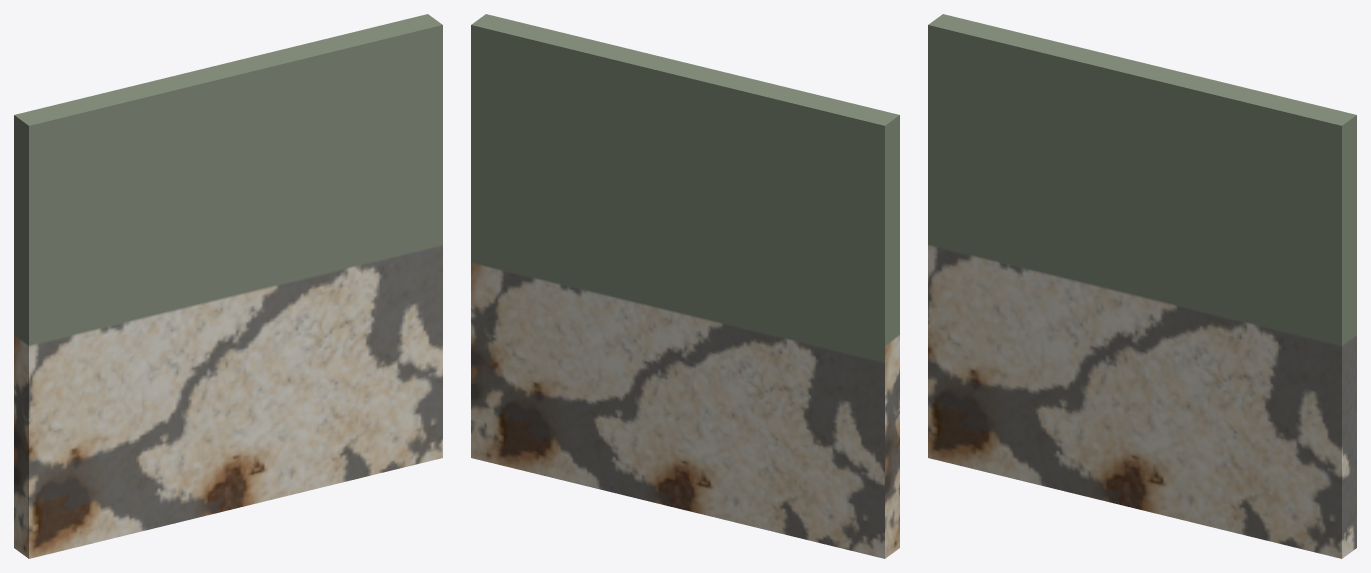
Rendered from singlewall.fbx.
3 renders of one model, left to right at view 1: azimuth 30°, elevation 25°; view 2: azimuth 150°, elevation 25°; view 3: azimuth 330°, elevation 25°, orthographic.
Parts seen in each view (by area): view 1: Office_Wall_Solid2; view 2: Office_Wall_Solid2; view 3: Office_Wall_Solid2.
Part boxes in pixels (x1=…): Office_Wall_Solid2: x1=14, y1=14, x2=442, y2=558; Office_Wall_Solid2: x1=471, y1=14, x2=899, y2=558; Office_Wall_Solid2: x1=928, y1=14, x2=1356, y2=558.
Size of the model in its own units: 300 by 300 by 18.75.
